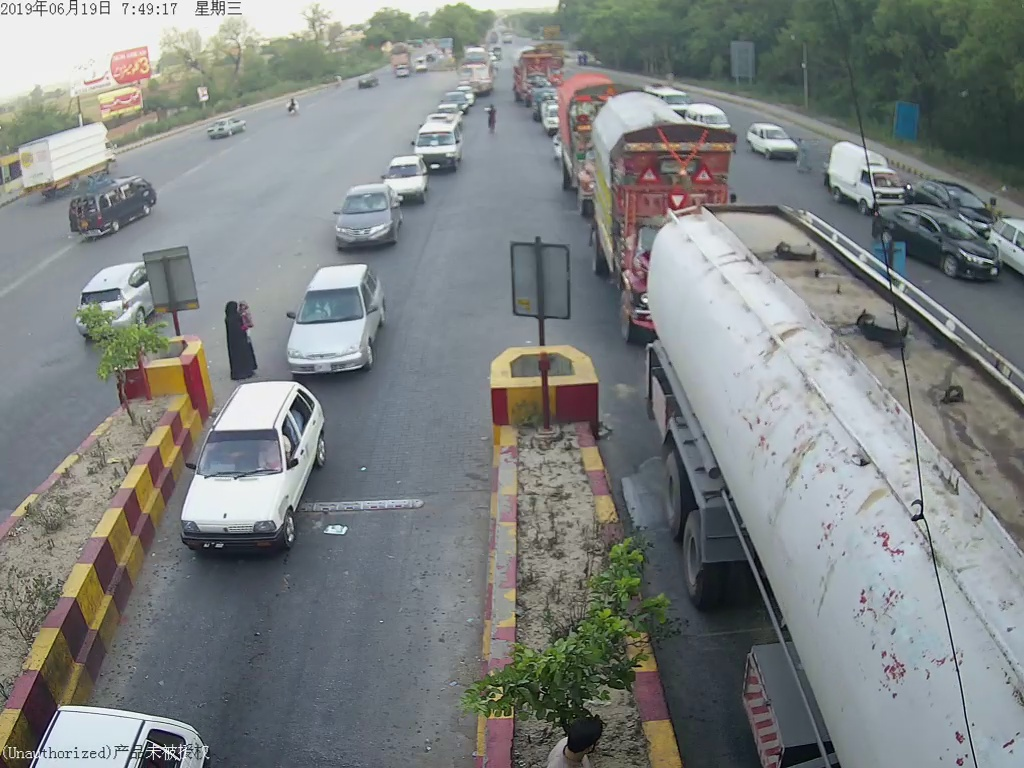Cat-1: (173, 372, 329, 548), (282, 259, 389, 376), (329, 179, 407, 252), (375, 153, 430, 203)
Cat-4: (589, 98, 737, 341), (548, 67, 618, 218)
